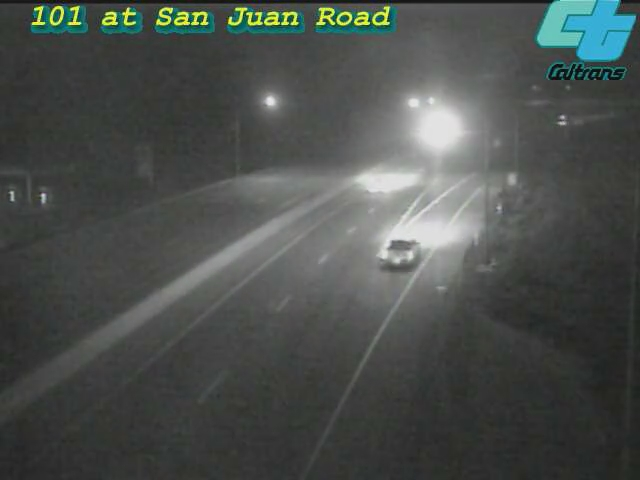vehicle: (339, 143, 419, 223), (360, 214, 440, 294), (411, 106, 461, 156), (543, 94, 593, 144)
